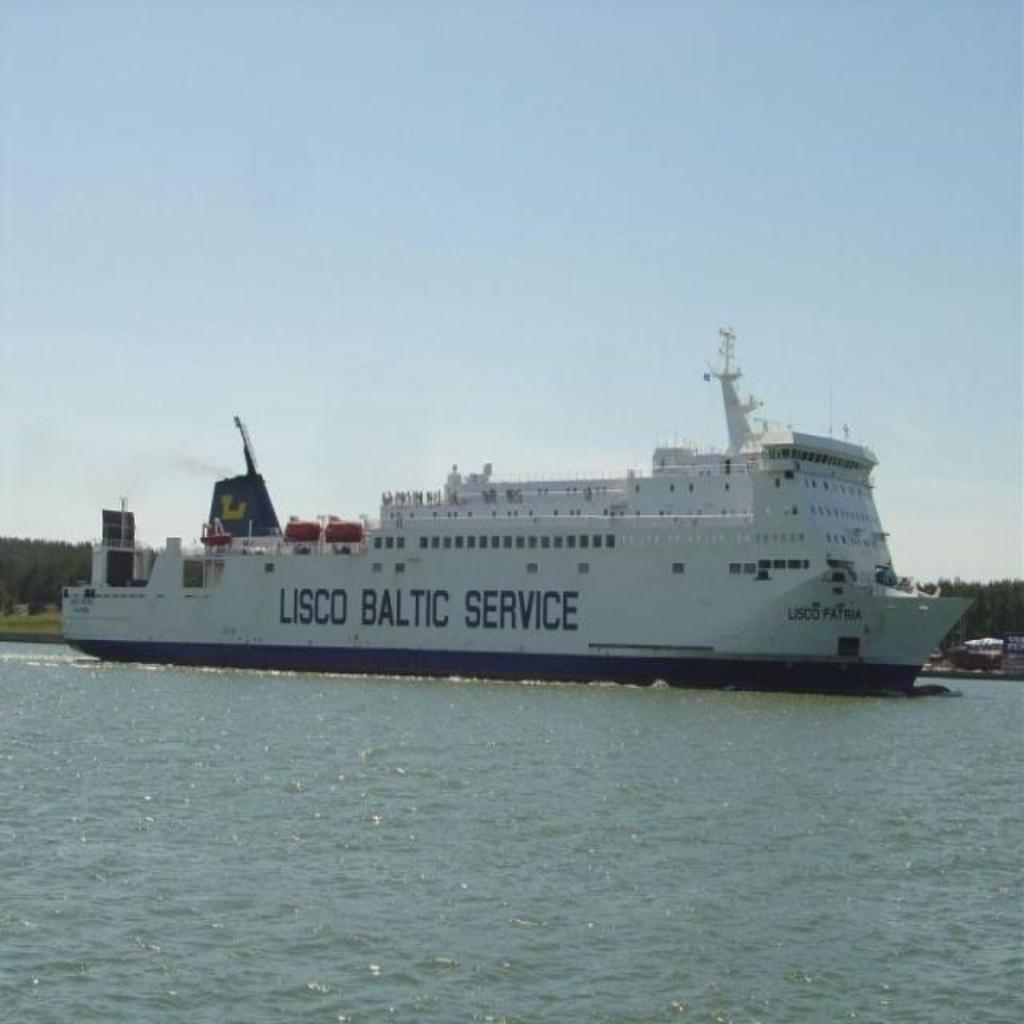PassengerShip: (52, 322, 976, 700)
